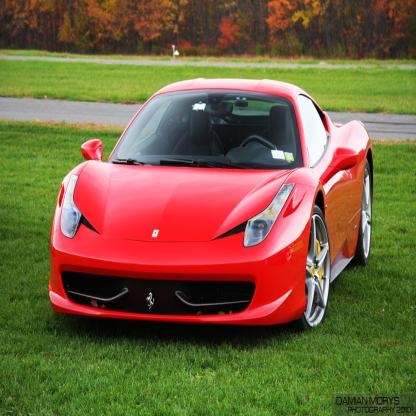Car: (48, 80, 373, 329)
